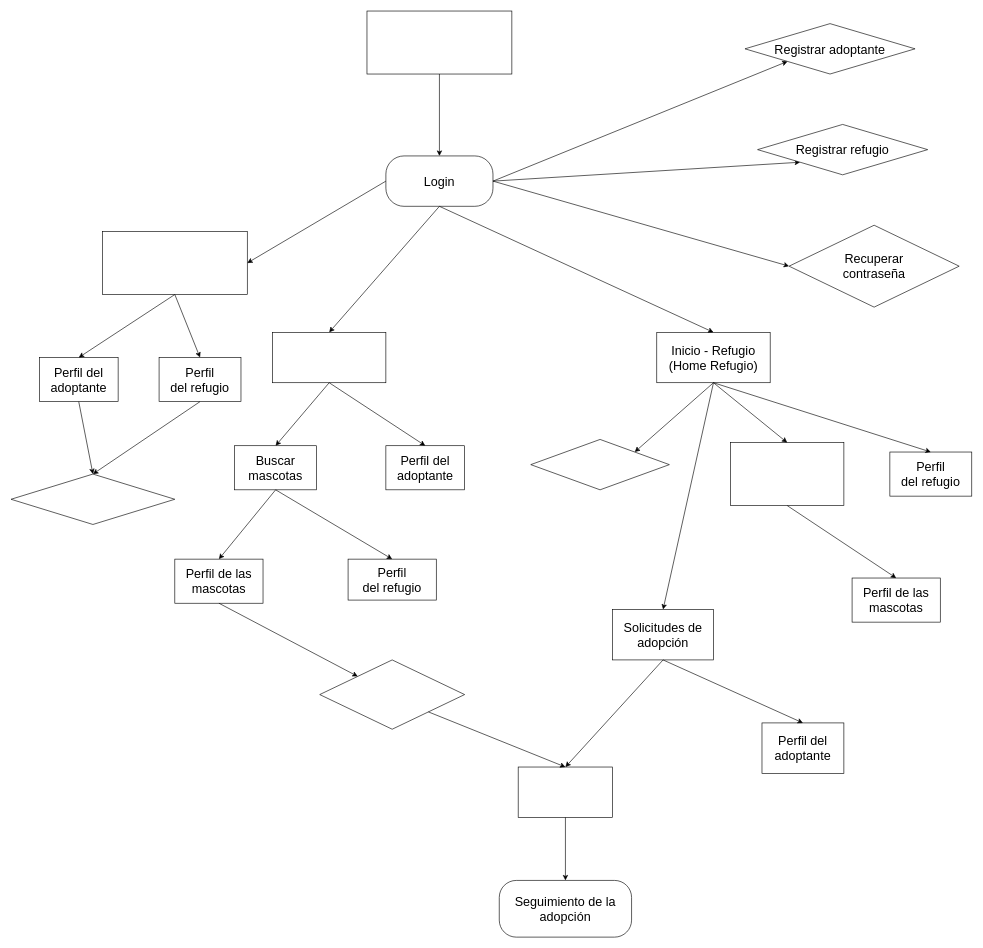
Image size: 983x948. Some labels were removed from this diagram. The shapes that lost their labels are listed below. From the top down, each one's centre as x and y in pixels, then its label:
point 439,42: Inicio - Visitante (Home Visitante)
point 174,263: Inicio - Administrador (Home Administrador)
point 329,357: Inicio - Adoptante (Home Adoptante)
point 599,464: Crea mascotas
point 787,474: Listado de mascotas propias del refugio
point 92,498: Eliminar perfil
point 392,694: Solicitar adopción
point 565,791: Estado de la adopción
